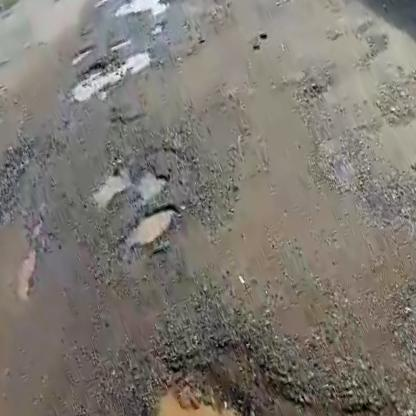pothole: (129, 354, 274, 416), (80, 145, 176, 219), (62, 42, 155, 103), (114, 194, 186, 255), (108, 0, 170, 27), (66, 39, 97, 62)
